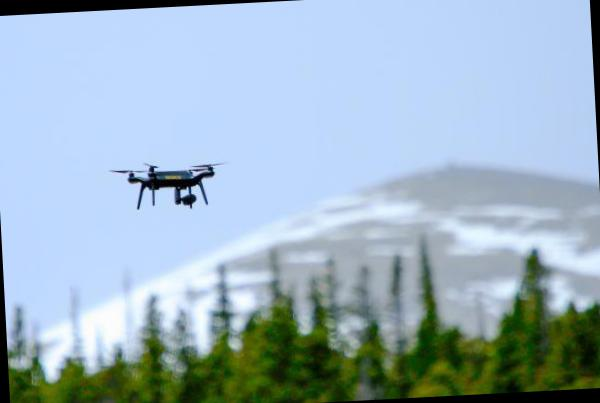drone: (109, 156, 229, 212)
